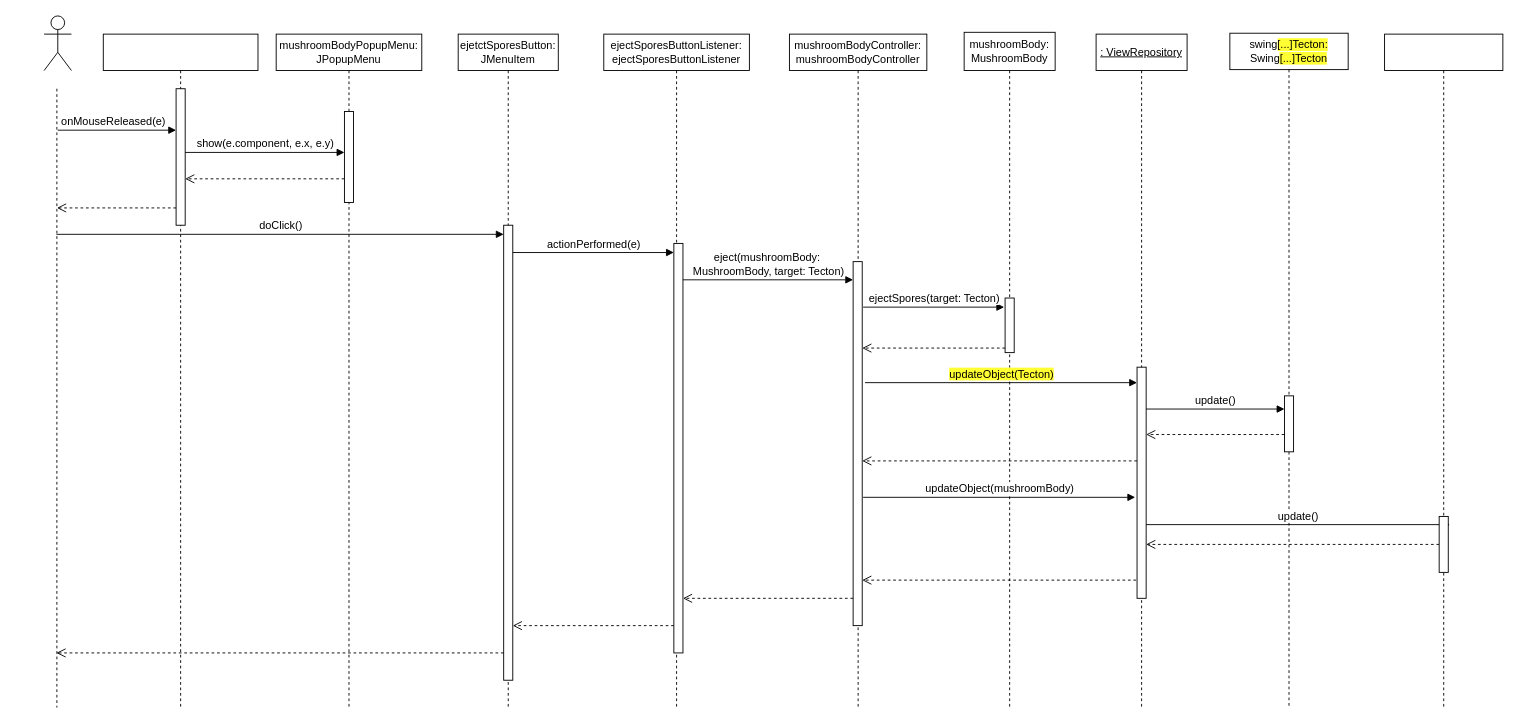
The diagram is 1519 pixels wide and 724 high, and some of its shapes have lost their labels. Each missing label, with the box of its shape:
mushroomBodyMouseAdapter: mushroomBodyMouseAdapter: (102, 33, 258, 708)
Player: (43, 15, 71, 71)
swingMushroomBody: SwingMushroomBody: (1384, 33, 1503, 708)
